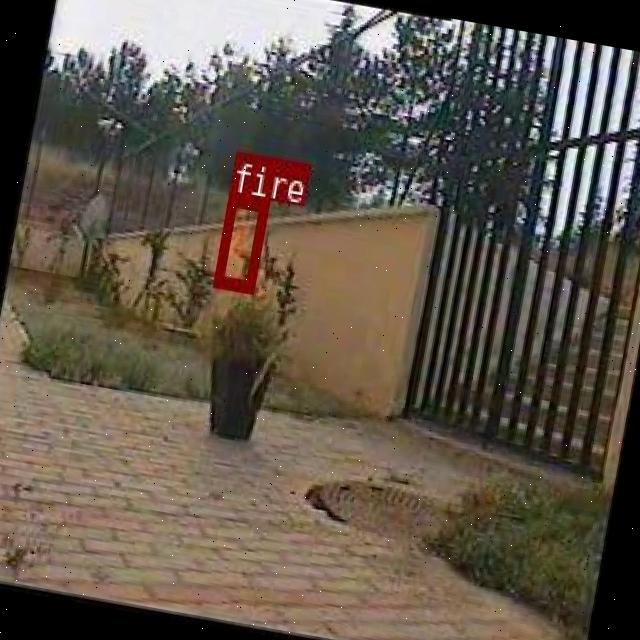fire: (210, 191, 268, 291)
